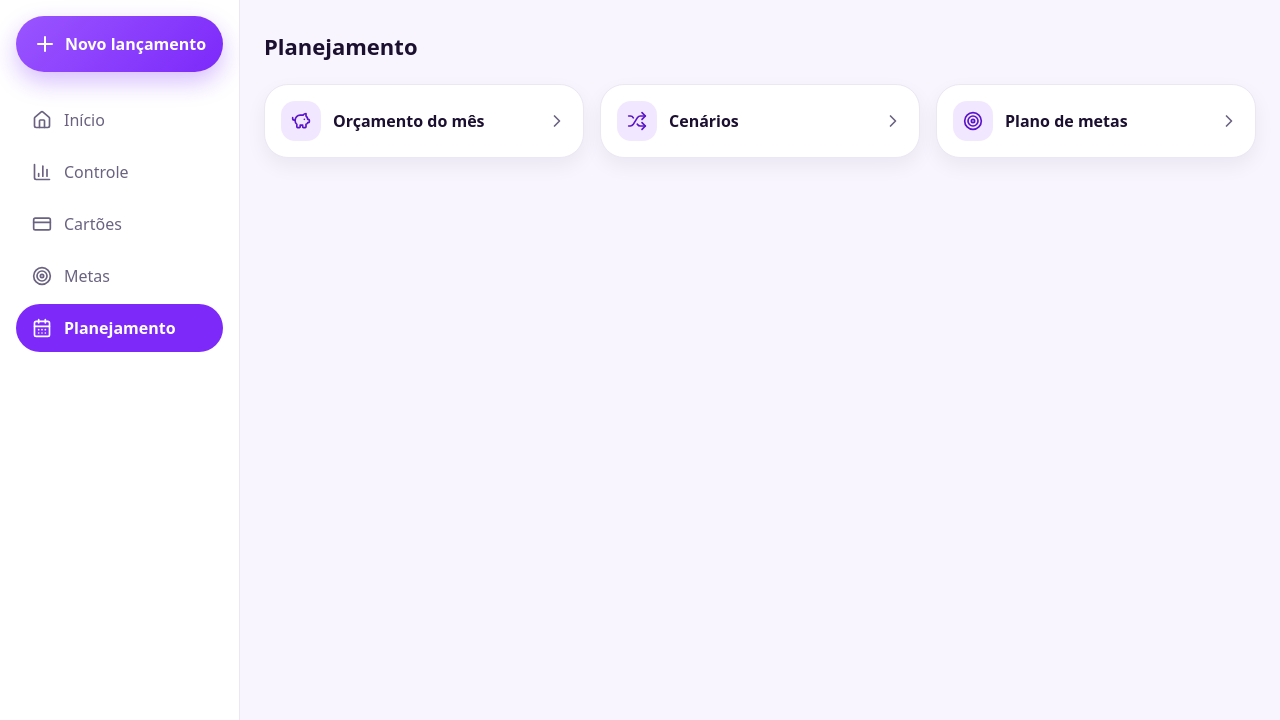
Test: Planejamento: hub (CA-7.02, CA-0.01) › tocar em "Orçamento do mês" abre a tela de orçamento
The width and height of the screenshot is (1280, 720).
Click the link "Orçamento do mês": (424, 121) [264,84,584,158]
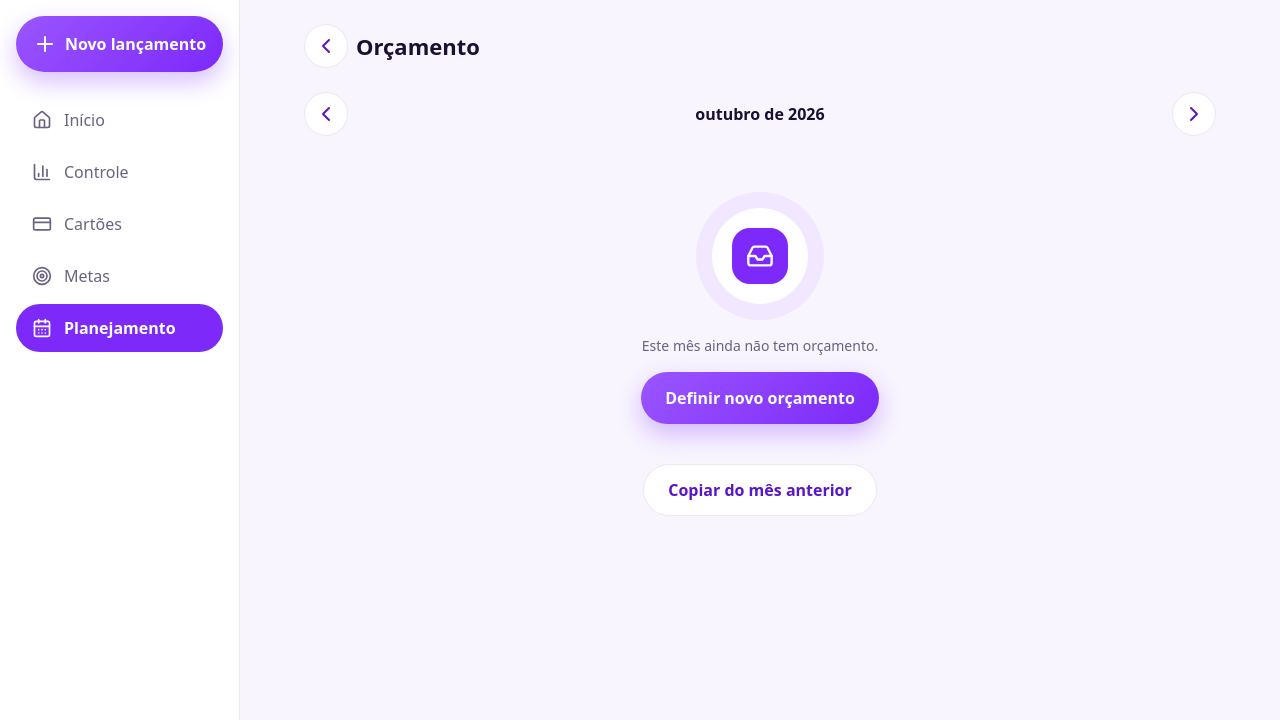
Now the heading "Orçamento" is shown, box [356,31,480,61]
